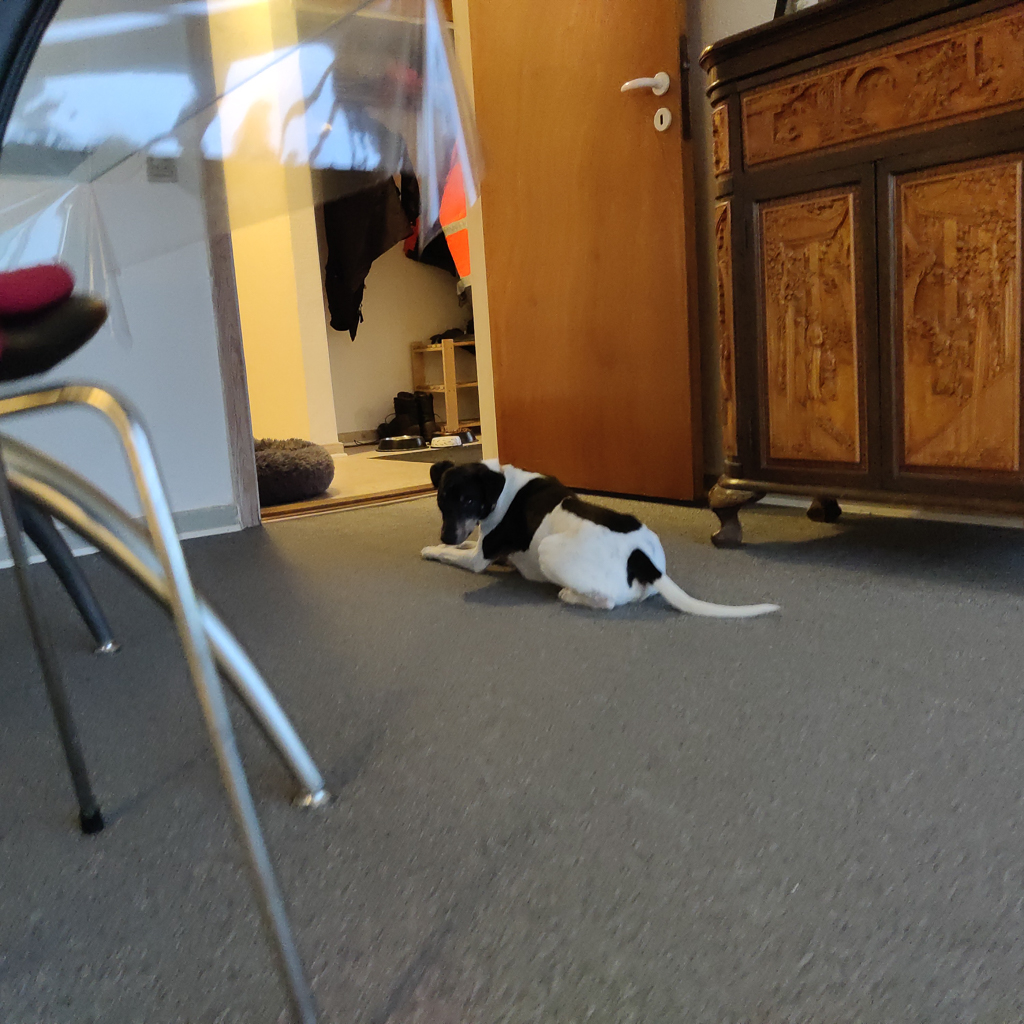Dog: (407, 444, 788, 632)
